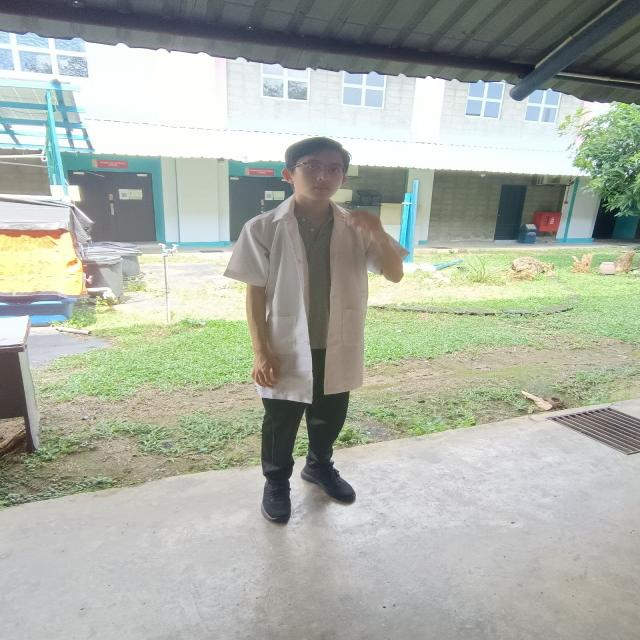person_with_labcoat: (225, 138, 405, 522)
